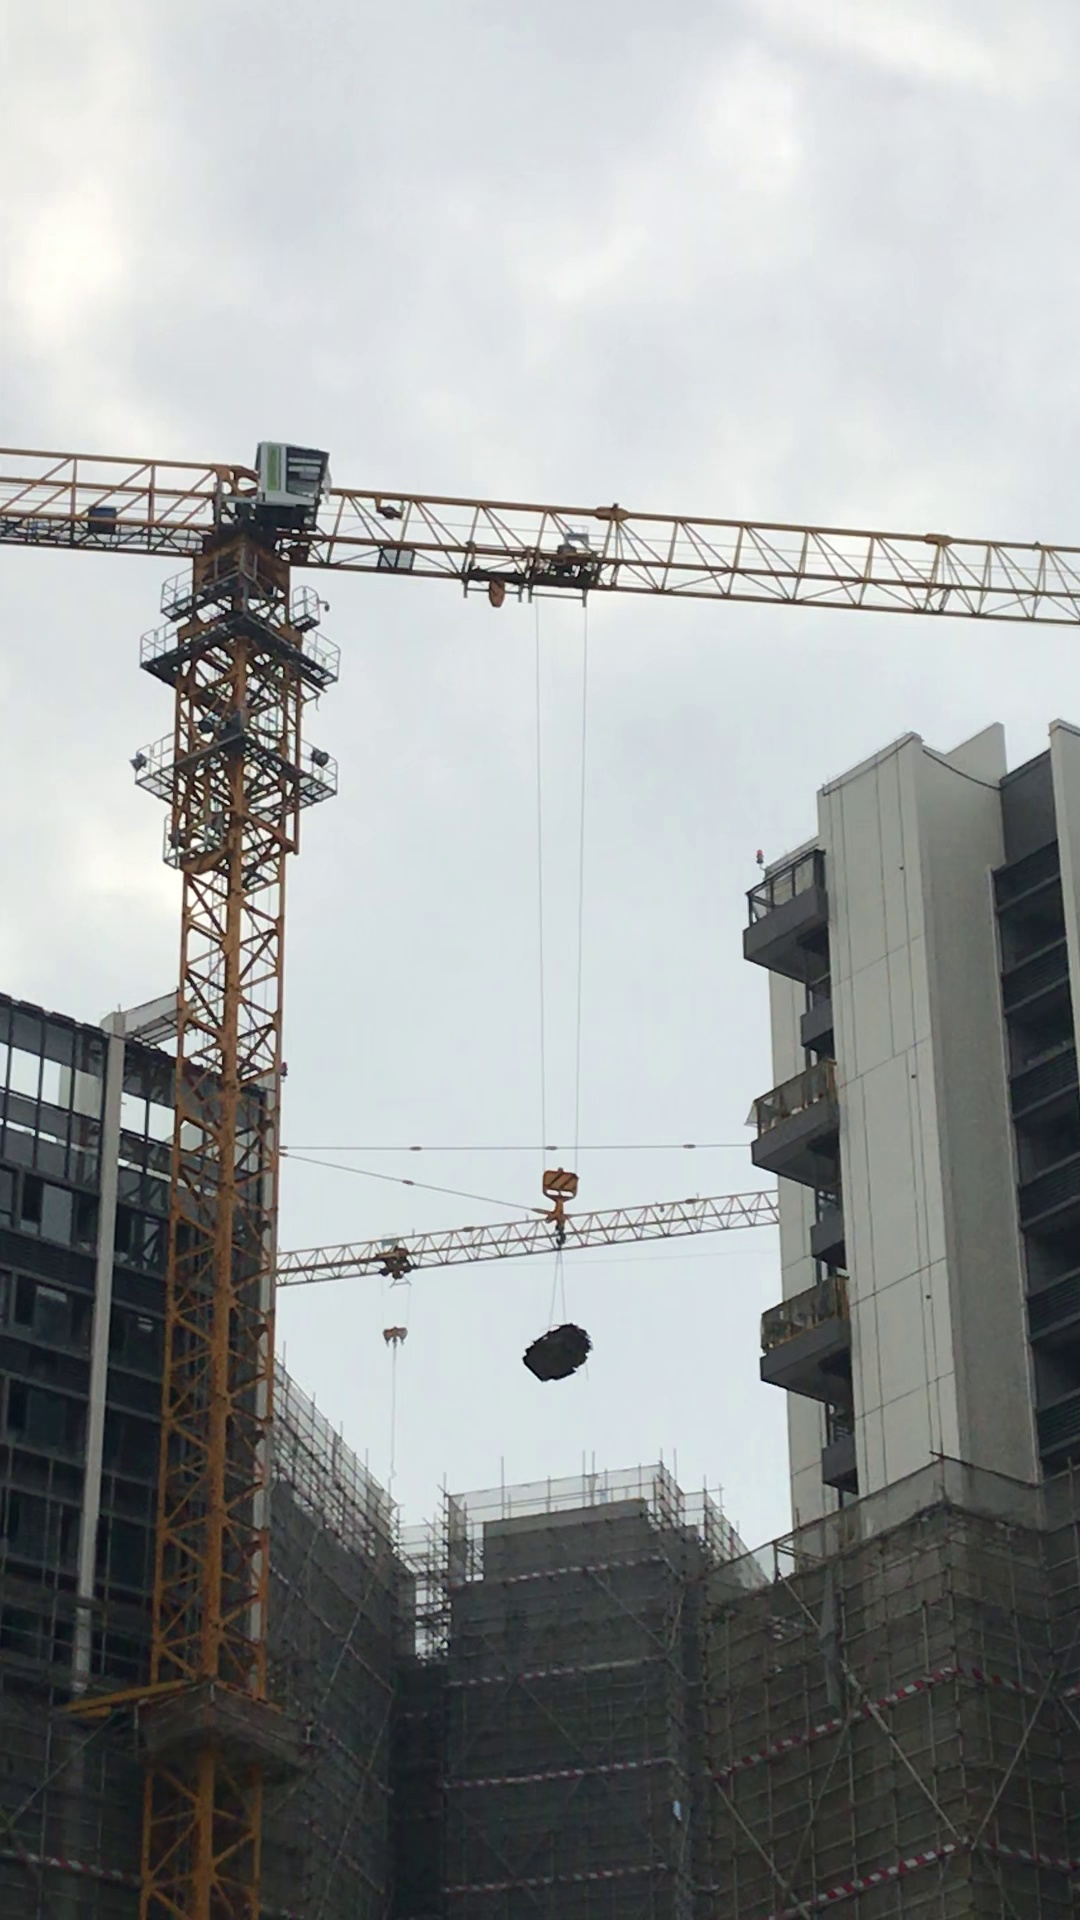board: (520, 1323, 593, 1385)
hook: (541, 1164, 582, 1247), (381, 1324, 410, 1352)
